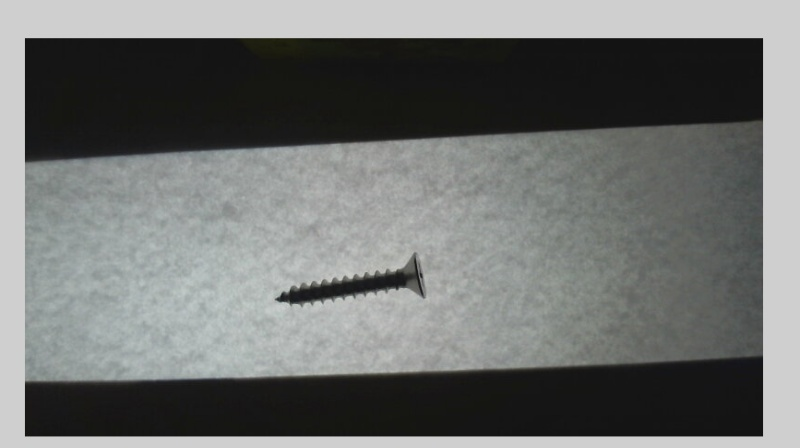S001: (273, 251, 428, 308)
